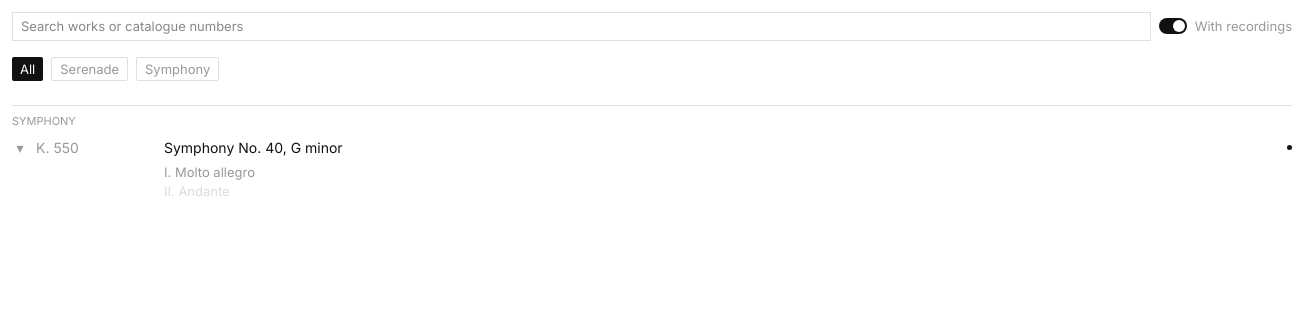
Test case: WorksList › folds a work's movements away and back
The image size is (1304, 328).
Click the switch labelled "With recordings": (1225, 26) [1159, 17, 1292, 36]
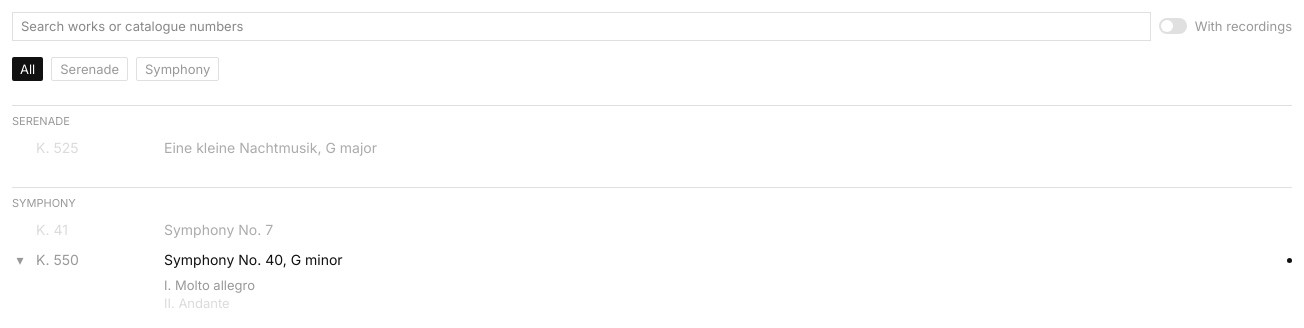
Click the button named "Movements of Symphony No. 40": (20, 260) [12, 253, 28, 267]
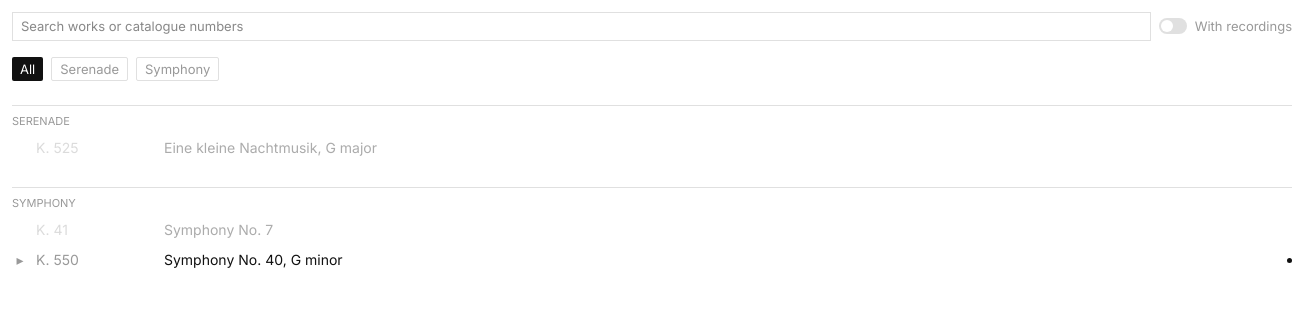
Expected: the button named "Movements of Symphony No. 40" is collapsed
Expected: the link "II. Andante" is gone
Click the button named "Movements of Symphony No. 40": (20, 260) [12, 253, 28, 267]
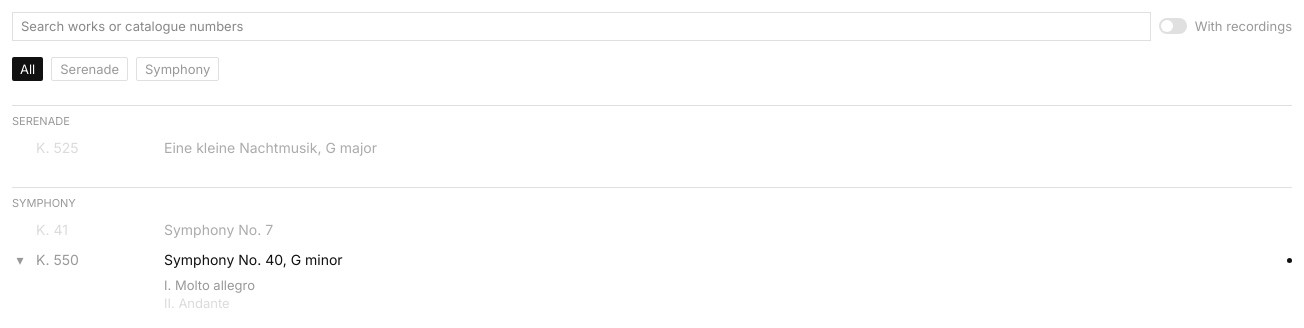
Expected: the link "II. Andante" is shown, [164, 295, 230, 311]
